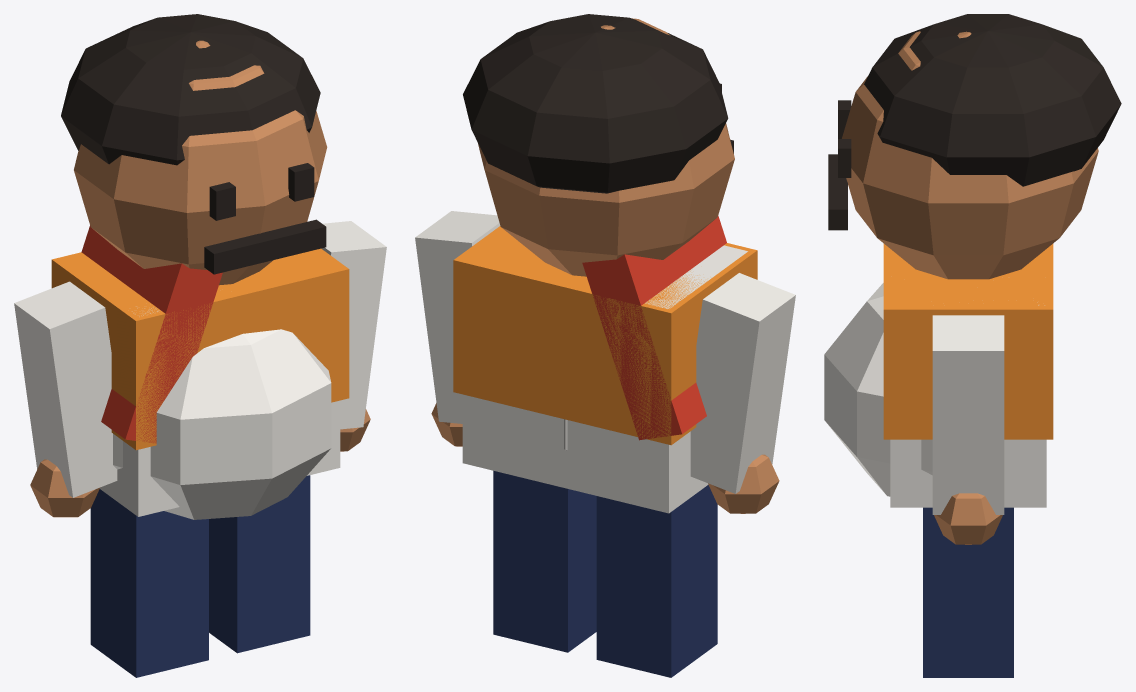
Rendered from bhaiya.glb.
3 views of the same model, side by side, from view 1: azimuth 30°, elevation 25°; view 2: azimuth 150°, elevation 25°; view 3: azimuth 270°, elevation 25° (orthographic). The views are drawn at different scales.
Visible parts, largest first — view 1: bhaiya; view 2: bhaiya; view 3: bhaiya.
Boxes of the visible parts, bbox=[...] form: bhaiya: bbox=[14, 14, 386, 677]; bhaiya: bbox=[415, 14, 795, 677]; bhaiya: bbox=[824, 14, 1121, 677].
Bounding box in the file's own units: 0.6909 × 1.18 × 0.5246.
Materials: 1 (1 with a texture image).
